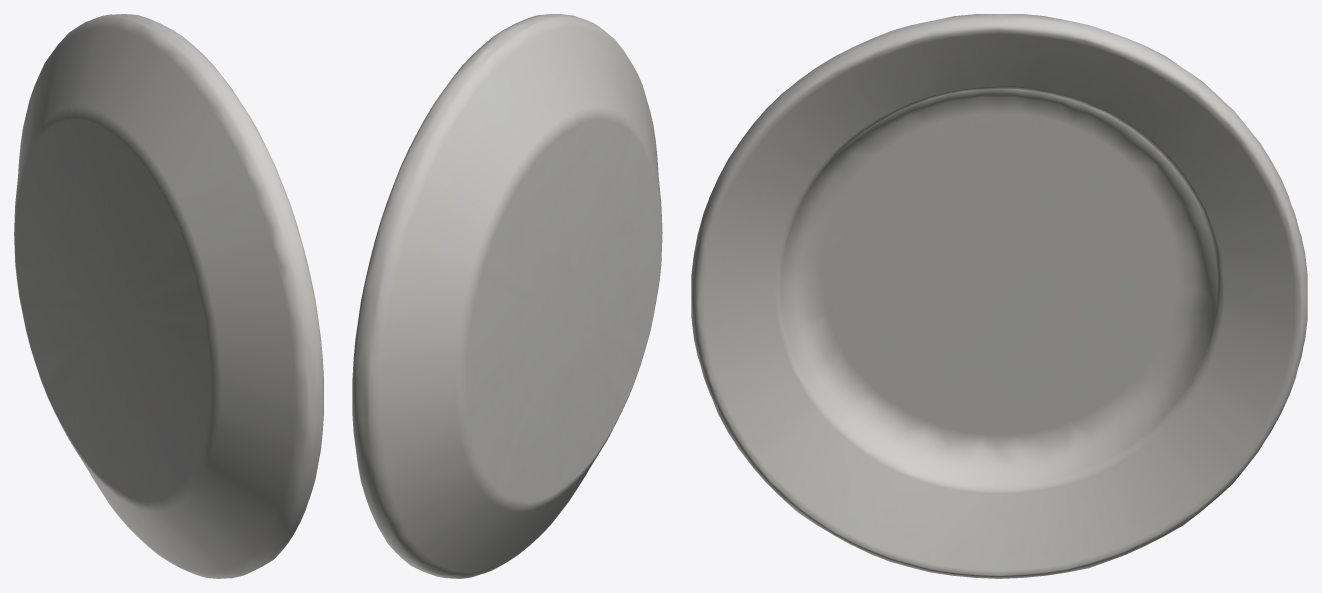
The picture shows the model from 3 angles, left to right: view 1: azimuth 30°, elevation 25°; view 2: azimuth 150°, elevation 25°; view 3: azimuth 270°, elevation 25°; orthographic projection. The views are drawn at different scales.
Parts seen in each view (by area): view 1: tripo_node_bed71c10-a342-4ed9-802f-fc5b5a23f865; view 2: tripo_node_bed71c10-a342-4ed9-802f-fc5b5a23f865; view 3: tripo_node_bed71c10-a342-4ed9-802f-fc5b5a23f865.
Part boxes in pixels (x1=…): tripo_node_bed71c10-a342-4ed9-802f-fc5b5a23f865: x1=14, y1=14, x2=323, y2=578; tripo_node_bed71c10-a342-4ed9-802f-fc5b5a23f865: x1=352, y1=14, x2=662, y2=578; tripo_node_bed71c10-a342-4ed9-802f-fc5b5a23f865: x1=691, y1=14, x2=1307, y2=578.
Size of the model in its own units: 0.1426 by 0.998 by 0.998.
Materials: 1 (1 with a texture image).
